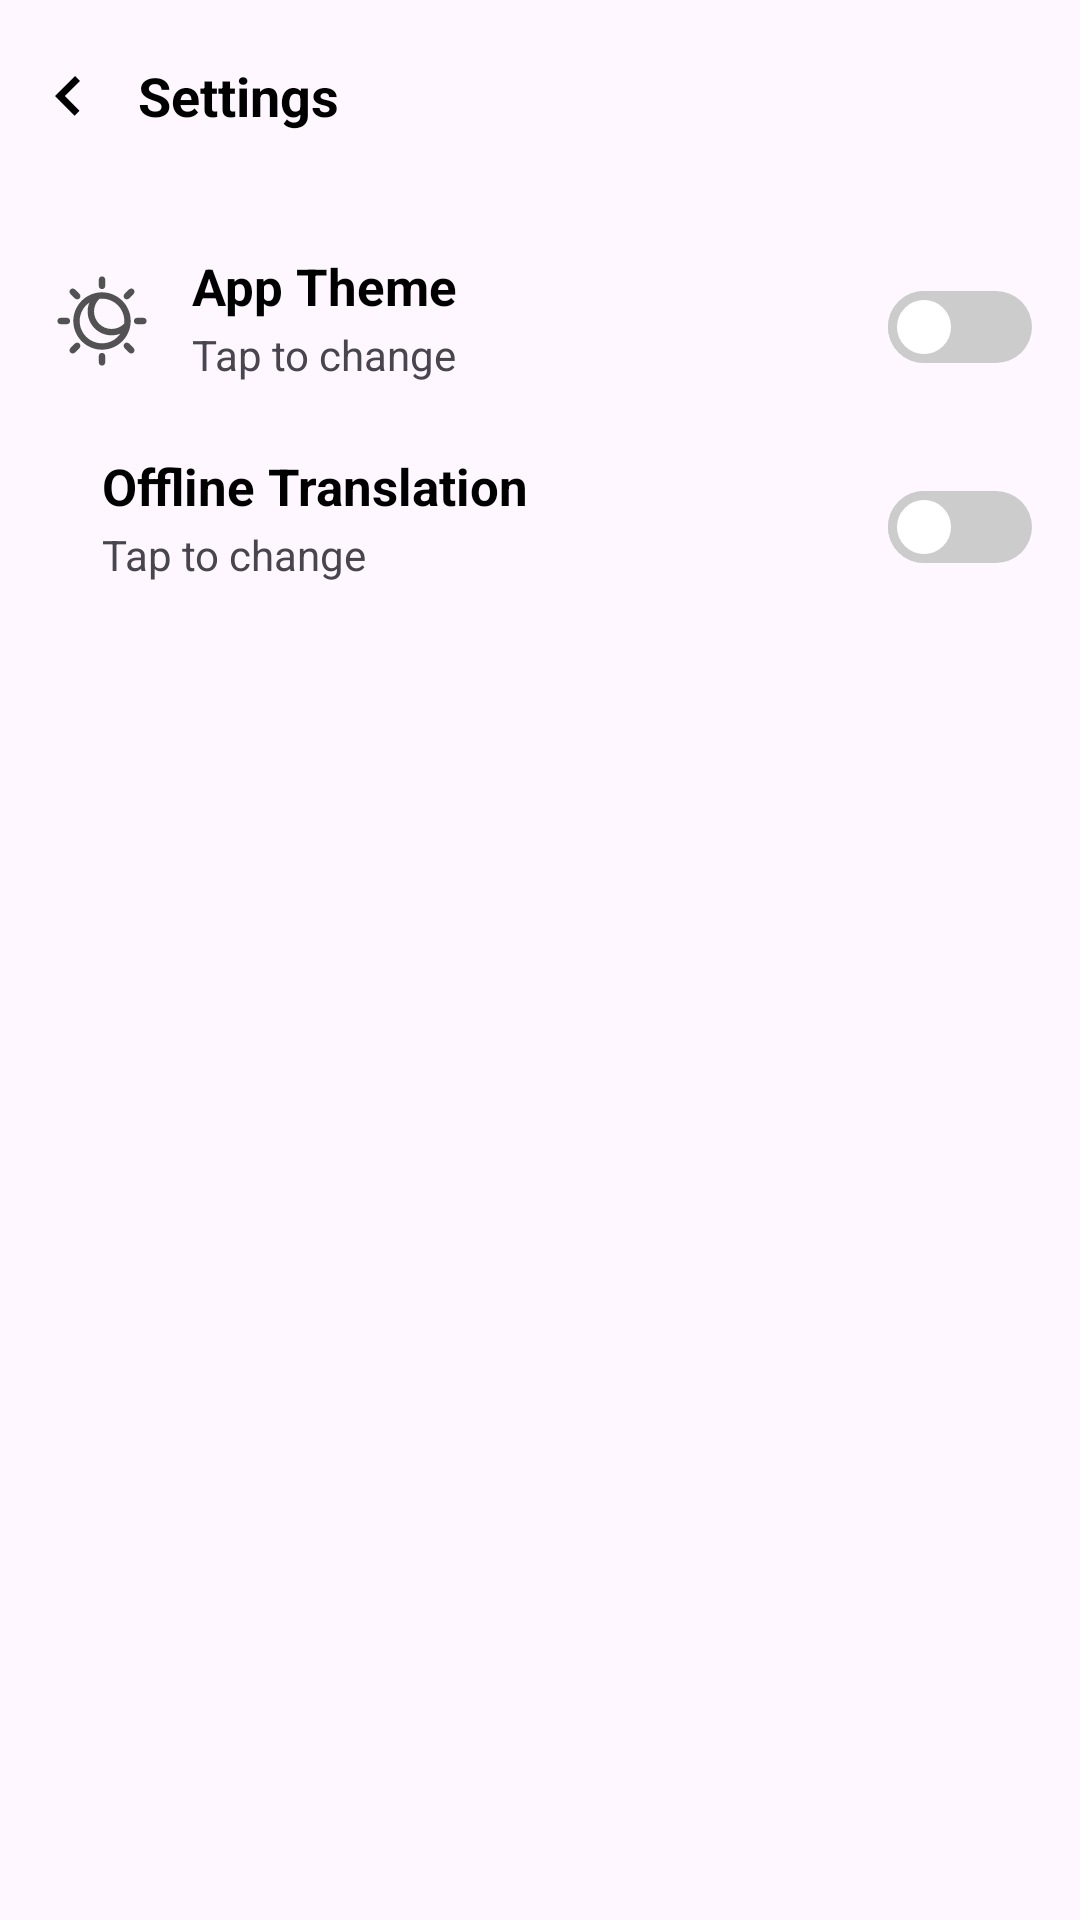

Screen size 1080w x 1920h. Icon name, then its box in pixels as (x1, y1, x2, y2):
Back: (55, 76, 80, 116)
